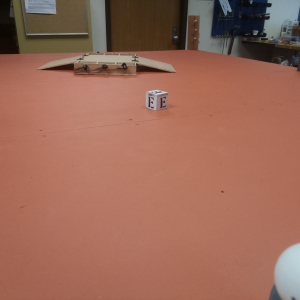blockE: (147, 90, 170, 113)
corner: (187, 15, 200, 53)
obstacle: (268, 237, 299, 300)
side: (73, 59, 135, 77)
slope: (137, 57, 177, 76), (39, 54, 77, 72)
